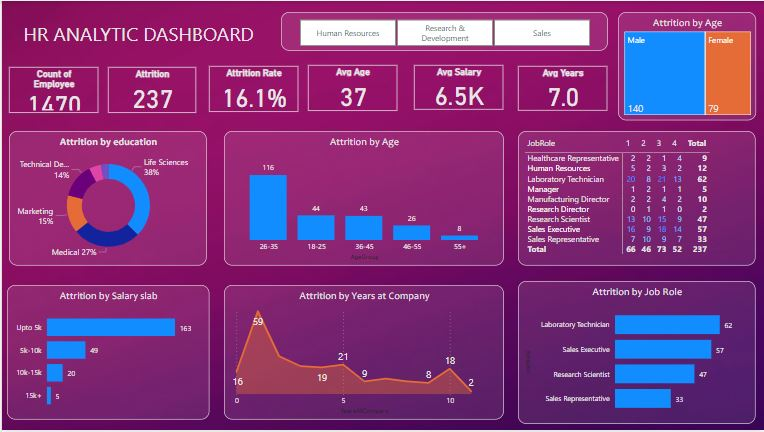

The page's visual inventory and layout, read from the dashboard file:
{"tool":"powerbi","page":{"name":"Page 1","canvas":[1280,720],"ordinal":0},"visuals":[{"type":"card","title":"Count of Employee","fields":{"Values":["CountNonNull(HR_Analytics.EmpID)"]},"box":[11.5,111.3,149.7,76.8],"z":0},{"type":"card","title":"Attrition","fields":{"Values":["Sum(HR_Analytics.AttritionCount)"]},"box":[178.5,111.3,147.8,76.8],"z":1},{"type":"card","title":"Attrition Rate","fields":{"Values":["HR_Analytics.AttritionRate"]},"box":[347.3,109.4,149.7,76.8],"z":2},{"type":"card","title":"Avg Age","fields":{"Values":["Avg(HR_Analytics.Age)"]},"box":[514.3,107.5,149.7,76.8],"z":3},{"type":"card","title":"Avg Salary","fields":{"Values":["Avg(HR_Analytics.MonthlyIncome)"]},"box":[692.8,107.5,149.7,74.8],"z":4},{"type":"card","title":"Avg Years","fields":{"Values":["Avg(HR_Analytics.YearsAtCompany)"]},"box":[867.4,109.4,149.7,74.8],"z":5},{"type":"donutChart","title":"Attrition by education","fields":{"Category":["HR_Analytics.EducationField"],"Y":["Sum(HR_Analytics.AttritionCount)"]},"box":[11.5,218.8,332,226.4],"z":6},{"type":"columnChart","title":"Attrition by Age","fields":{"Category":["HR_Analytics.AgeGroup"],"Y":["Sum(HR_Analytics.AttritionCount)"]},"box":[372.3,218.8,470.2,226.4],"z":7},{"type":"pivotTable","fields":{"Rows":["HR_Analytics.JobRole"],"Columns":["HR_Analytics.JobSatisfaction"],"Values":["Sum(HR_Analytics.AttritionCount)"]},"box":[867.4,218.8,399.2,226.4],"z":8},{"type":"barChart","title":"Attrition by Salary slab","fields":{"Category":["HR_Analytics.SalarySlab"],"Y":["Sum(HR_Analytics.AttritionCount)"]},"box":[7.7,477.8,339.7,226.4],"z":9},{"type":"barChart","title":"Attrition by Job Role","fields":{"Category":["HR_Analytics.JobRole"],"Y":["Sum(HR_Analytics.AttritionCount)"]},"box":[867.4,470.2,399.2,239.9],"z":10},{"type":"areaChart","title":"Attrition by Years at Company","fields":{"Category":["HR_Analytics.YearsAtCompany"],"Y":["Sum(HR_Analytics.AttritionCount)"]},"box":[372.3,477.8,470.2,226.4],"z":11},{"type":"treemap","title":"Attrition by Age","fields":{"Group":["HR_Analytics.Gender"],"Values":["Sum(HR_Analytics.AttritionCount)"]},"box":[1034.4,19.2,232.2,182.3],"z":12},{"type":"slicer","fields":{"Values":["HR_Analytics.Department"]},"box":[468.2,19.2,548.8,65.2],"z":13},{"type":"textbox","box":[11.5,26.9,435.6,57.6],"z":14}]}

Visuals, with their boxes in screenshot pixels (x1, y1, x2, y2), scaled from the page's 1280x720 canvas onto the 764x432 screenshot:
"Count of Employee" card: <bbox>7, 67, 96, 113</bbox>
"Attrition" card: <bbox>107, 67, 195, 113</bbox>
"Attrition Rate" card: <bbox>207, 66, 297, 112</bbox>
"Avg Age" card: <bbox>307, 64, 396, 111</bbox>
"Avg Salary" card: <bbox>414, 64, 503, 109</bbox>
"Avg Years" card: <bbox>518, 66, 607, 111</bbox>
"Attrition by education" donutChart: <bbox>7, 131, 205, 267</bbox>
"Attrition by Age" columnChart: <bbox>222, 131, 503, 267</bbox>
pivotTable - HR_Analytics.JobRole x HR_Analytics.JobSatisfaction: <bbox>518, 131, 756, 267</bbox>
"Attrition by Salary slab" barChart: <bbox>5, 287, 207, 423</bbox>
"Attrition by Job Role" barChart: <bbox>518, 282, 756, 426</bbox>
"Attrition by Years at Company" areaChart: <bbox>222, 287, 503, 423</bbox>
"Attrition by Age" treemap: <bbox>617, 12, 756, 121</bbox>
slicer - HR_Analytics.Department: <bbox>279, 12, 607, 51</bbox>
textbox: <bbox>7, 16, 267, 51</bbox>
